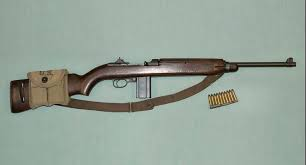Gun: (92, 56, 296, 92)
